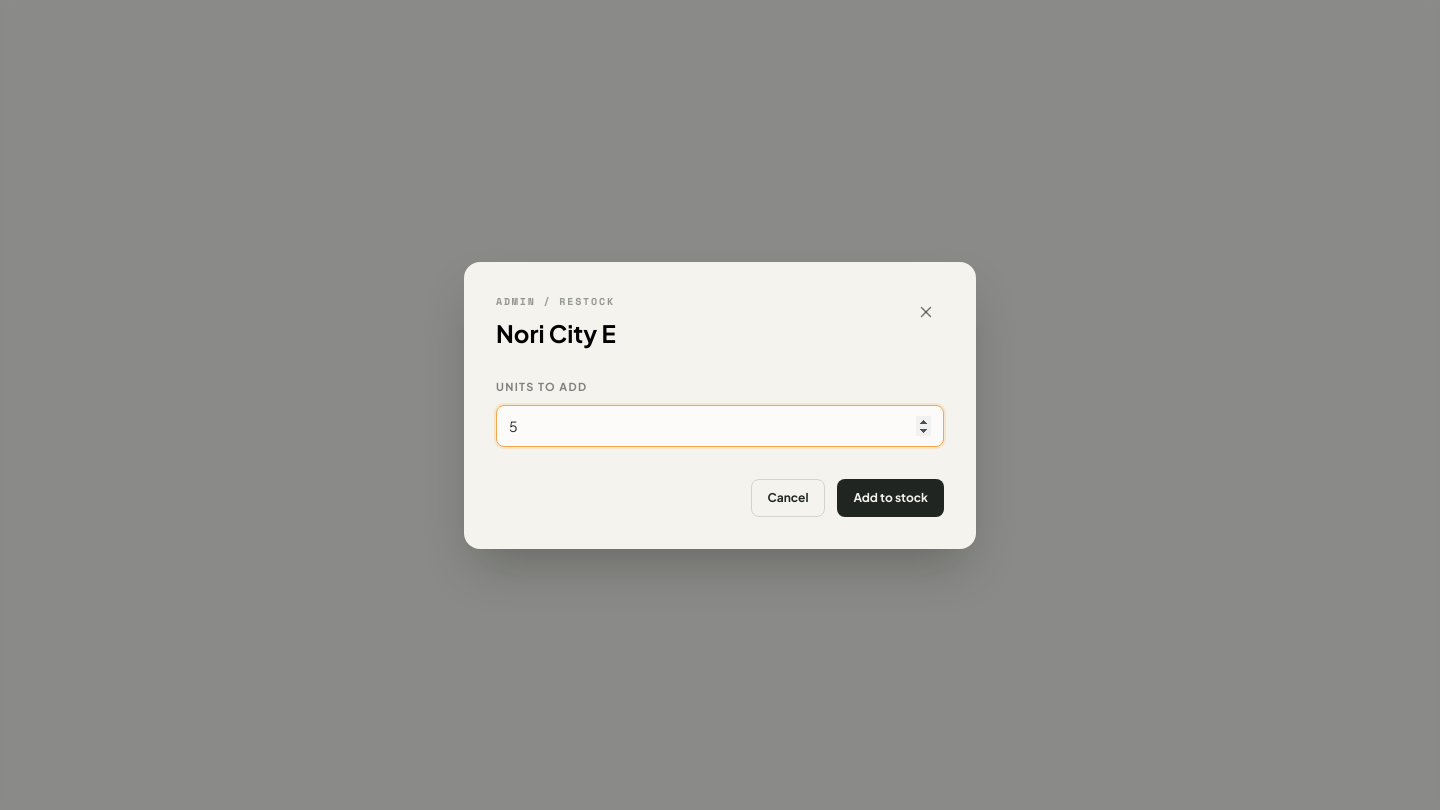
RestockModal › rejects
The width and height of the screenshot is (1440, 810).
Clear the number field labelled "Units to add": (720, 426) x1=496 y1=404 x2=944 y2=446
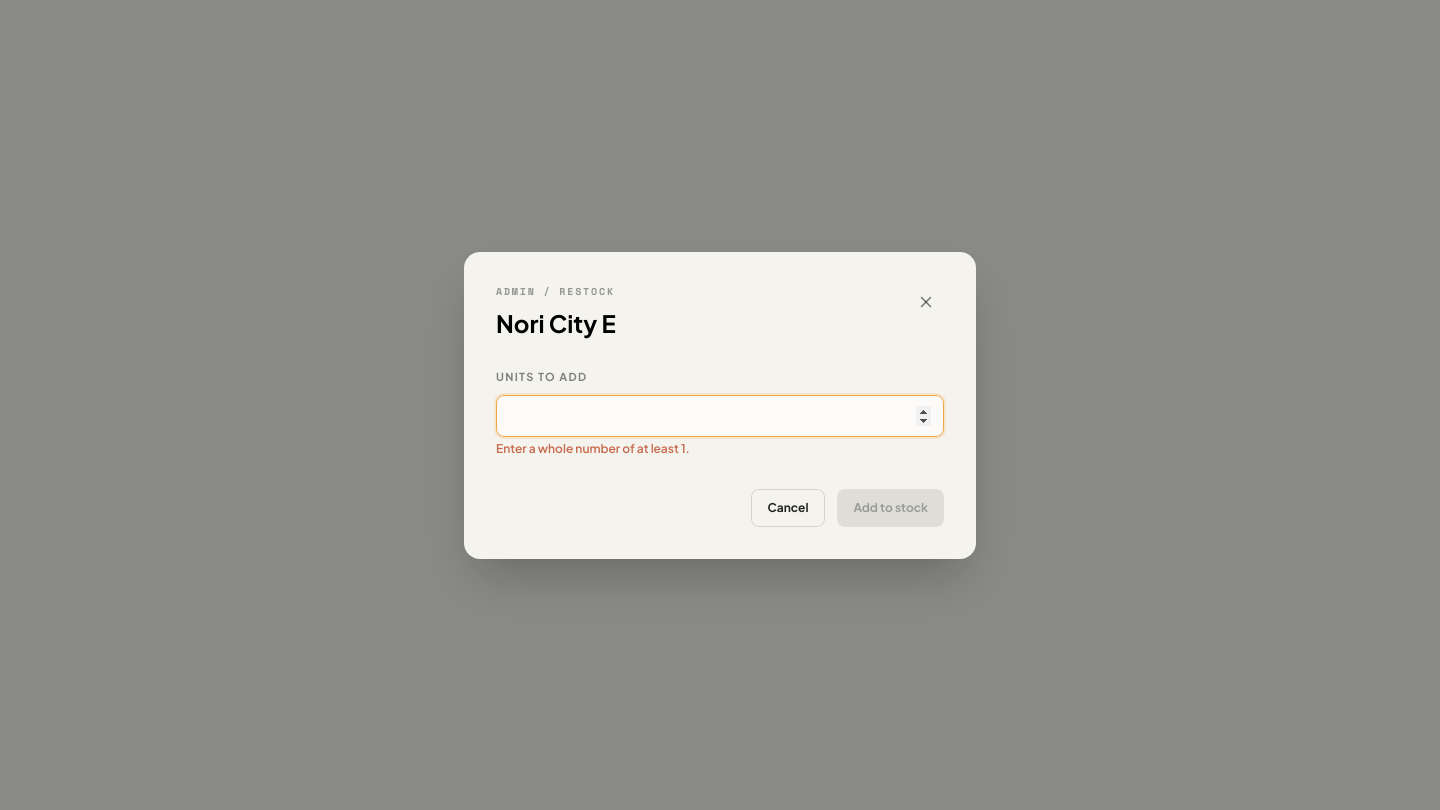
Check: the button "Add to stock" is disabled, box x1=838 y1=488 x2=944 y2=526
